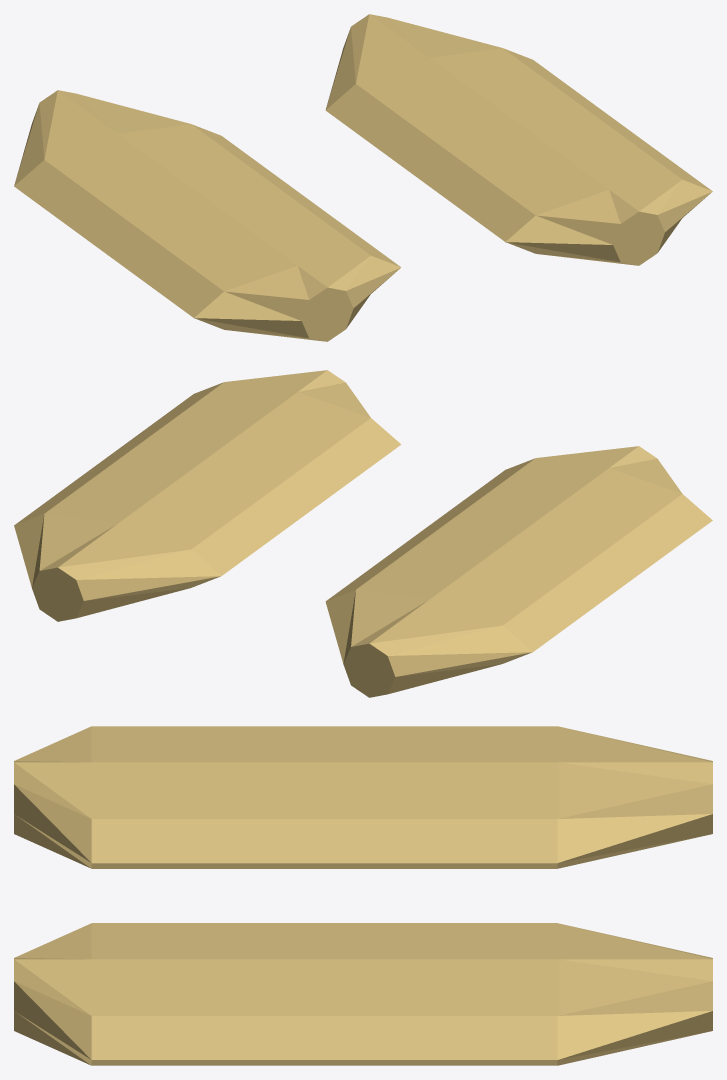
The model's file is upgrade_recharge.glb.
3 renders of one model, top to bottom at view 1: azimuth 30°, elevation 25°; view 2: azimuth 150°, elevation 25°; view 3: azimuth 270°, elevation 25°, orthographic. The views are drawn at different scales.
Parts seen in each view (by area): view 1: solar_fin_-0.6, solar_fin_0.6; view 2: solar_fin_0.6, solar_fin_-0.6; view 3: solar_fin_-0.6, solar_fin_0.6.
Boxes of the visible parts, x1,y1,x2,y2 form: solar_fin_-0.6: (14, 90, 400, 341); solar_fin_0.6: (325, 14, 712, 265); solar_fin_0.6: (14, 370, 400, 621); solar_fin_-0.6: (325, 446, 712, 697); solar_fin_-0.6: (14, 726, 712, 868); solar_fin_0.6: (14, 923, 712, 1065).
Size of the model in its own units: 2 by 0.2 by 1.8.
